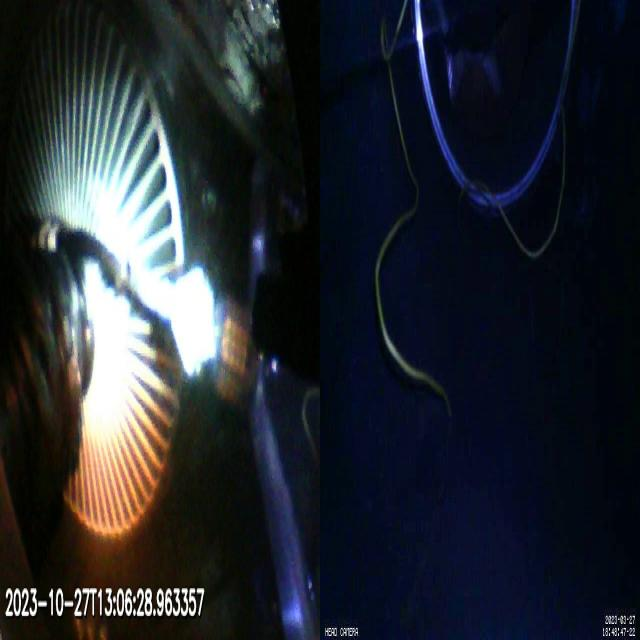head: (171, 266, 263, 414)
white-dots: (25, 214, 58, 253)
